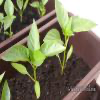Bell_pepper leaf: (27, 18, 41, 54), (1, 45, 29, 63), (54, 0, 70, 30), (40, 40, 66, 57), (43, 28, 64, 47), (73, 18, 99, 33), (32, 50, 45, 67)
